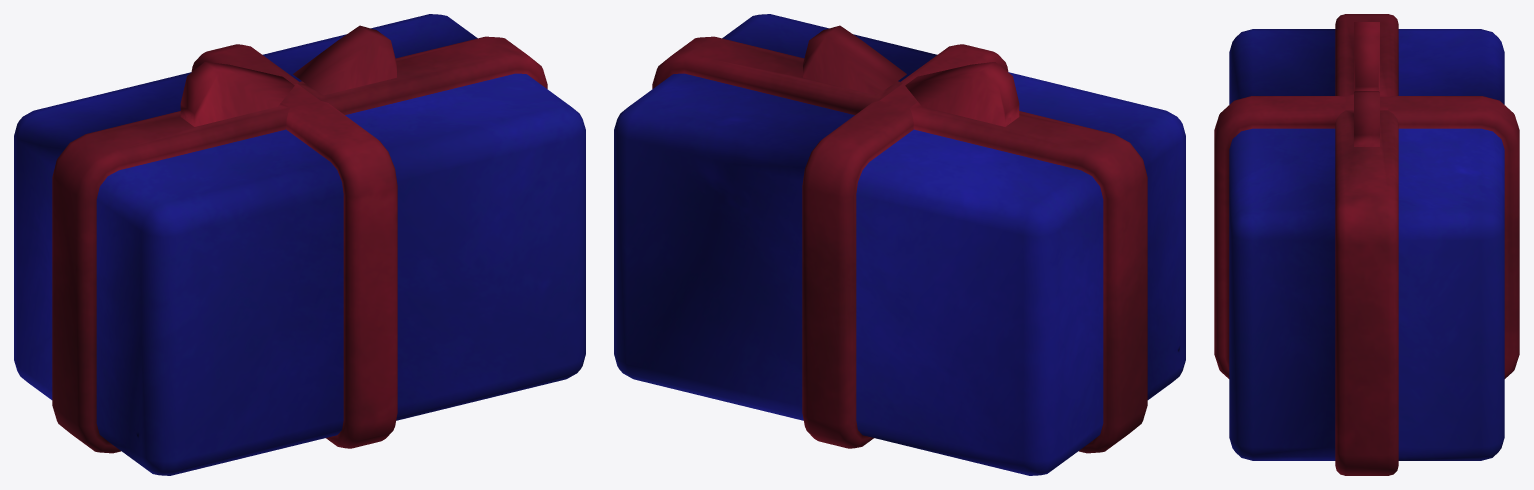
Rendered from Presente_G_Azul.fbx.
The picture shows the model from 3 angles, left to right: view 1: azimuth 30°, elevation 25°; view 2: azimuth 150°, elevation 25°; view 3: azimuth 270°, elevation 25°; orthographic projection. The views are drawn at different scales.
Visible parts, largest first — view 1: Presente_G_Azul; view 2: Presente_G_Azul; view 3: Presente_G_Azul.
Boxes of the visible parts, <box> form: Presente_G_Azul: <box>14,14,585,475</box>; Presente_G_Azul: <box>614,14,1185,475</box>; Presente_G_Azul: <box>1214,14,1519,475</box>.
Size of the model in its own units: 47.04 by 33.49 by 28.83.
Materials: 1 (1 with a texture image).
